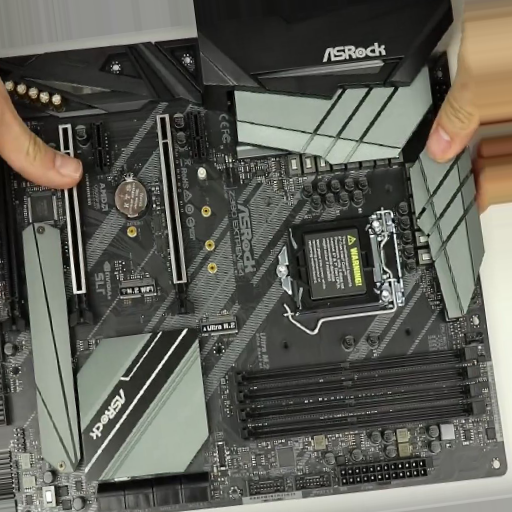CPU: (275, 216, 394, 313)
GPU: (154, 112, 197, 316), (57, 125, 98, 327)
MOTHERBOARD: (1, 29, 506, 497)
RAM: (227, 345, 489, 437)
SSD: (195, 311, 240, 338), (118, 274, 158, 301)
